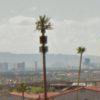Palm tree: (29, 9, 70, 83)
